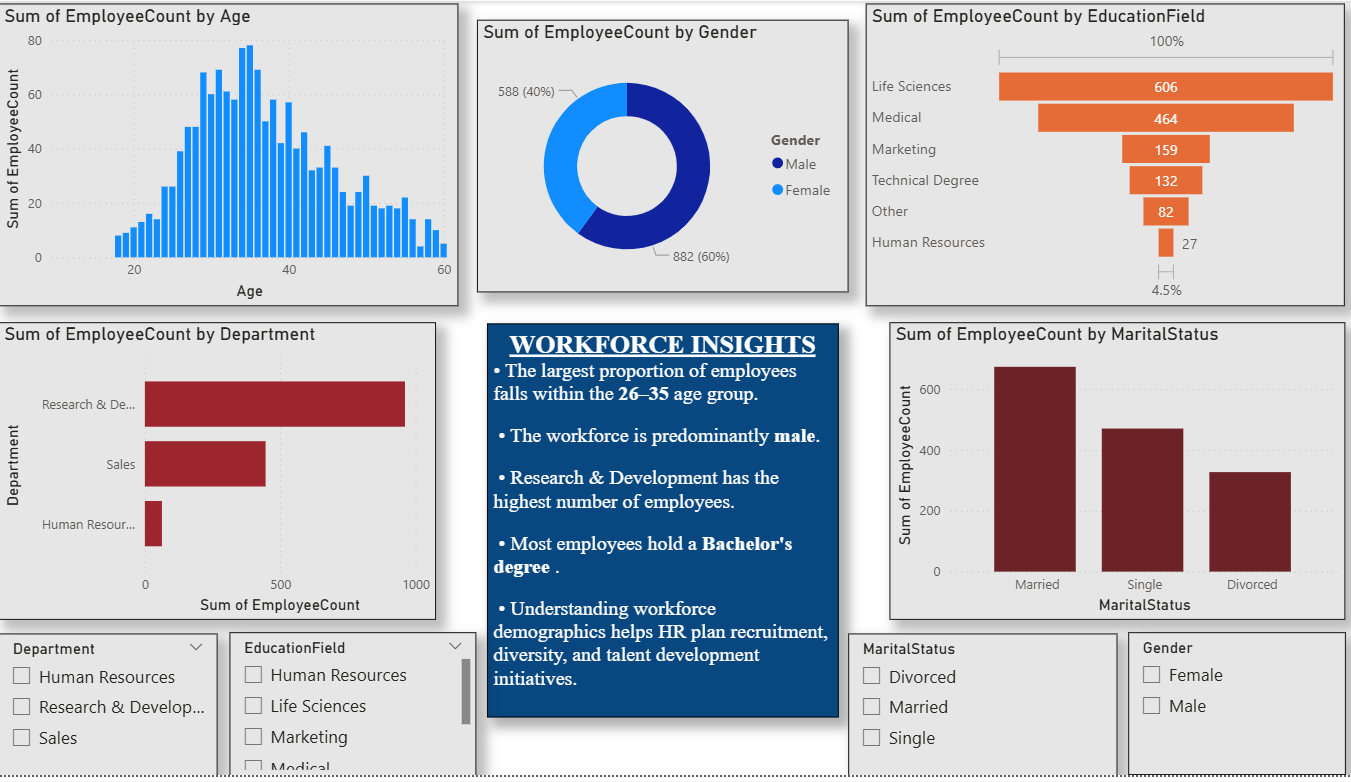

The dashboard page shown, as its layout file describes it:
{"tool":"powerbi","page":{"name":"Workforce Demographics ","canvas":[1280,720],"ordinal":1},"visuals":[{"type":"clusteredColumnChart","fields":{"Category":["HR-Employee-Attrition.Age"],"Y":["Sum(HR-Employee-Attrition.EmployeeCount)"]},"box":[11,2.7,428.1,281.3],"z":0},{"type":"donutChart","fields":{"Category":["HR-Employee-Attrition.Gender"],"Y":["Sum(HR-Employee-Attrition.EmployeeCount)"]},"box":[455.6,17.8,345.8,253.9],"z":1000},{"type":"clusteredColumnChart","fields":{"Category":["HR-Employee-Attrition.MaritalStatus"],"Y":["Sum(HR-Employee-Attrition.EmployeeCount)"]},"box":[839.8,299.1,424,277.2],"z":2000},{"type":"funnel","fields":{"Y":["Sum(HR-Employee-Attrition.EmployeeCount)"],"Category":["HR-Employee-Attrition.EducationField"]},"box":[817.8,2.7,446,281.3],"z":3000},{"type":"clusteredBarChart","fields":{"Y":["Sum(HR-Employee-Attrition.EmployeeCount)"],"Category":["HR-Employee-Attrition.Department"]},"box":[11,299.1,407.5,277.2],"z":4000},{"type":"textbox","box":[465.1,299.6,326.9,366.6],"z":5000},{"type":"slicer","fields":{"Values":["HR-Employee-Attrition.Department"]},"box":[10.9,588.2,203.8,132.7],"z":6000},{"type":"slicer","fields":{"Values":["HR-Employee-Attrition.EducationField"]},"box":[225.7,586.8,229.8,134],"z":7000},{"type":"slicer","fields":{"Values":["HR-Employee-Attrition.MaritalStatus"]},"box":[801.5,588.2,250.3,132.7],"z":8000},{"type":"slicer","fields":{"Values":["HR-Employee-Attrition.Gender"]},"box":[1061.4,586.8,202.4,132.7],"z":9000}]}

Visuals, with their boxes in screenshot pixels (x1, y1, x2, y2), scaled from the page's 1280x720 canvas onto the 1351x782 screenshot:
clusteredColumnChart - HR-Employee-Attrition.Age x Sum(HR-Employee-Attrition.EmployeeCount): bbox(12, 3, 463, 308)
donutChart - HR-Employee-Attrition.Gender x Sum(HR-Employee-Attrition.EmployeeCount): bbox(481, 19, 846, 295)
clusteredColumnChart - HR-Employee-Attrition.MaritalStatus x Sum(HR-Employee-Attrition.EmployeeCount): bbox(886, 325, 1334, 626)
funnel - Sum(HR-Employee-Attrition.EmployeeCount) x HR-Employee-Attrition.EducationField: bbox(863, 3, 1334, 308)
clusteredBarChart - Sum(HR-Employee-Attrition.EmployeeCount) x HR-Employee-Attrition.Department: bbox(12, 325, 442, 626)
textbox: bbox(491, 325, 836, 724)
slicer - HR-Employee-Attrition.Department: bbox(12, 639, 227, 781)
slicer - HR-Employee-Attrition.EducationField: bbox(238, 637, 481, 781)
slicer - HR-Employee-Attrition.MaritalStatus: bbox(846, 639, 1110, 781)
slicer - HR-Employee-Attrition.Gender: bbox(1120, 637, 1334, 781)
